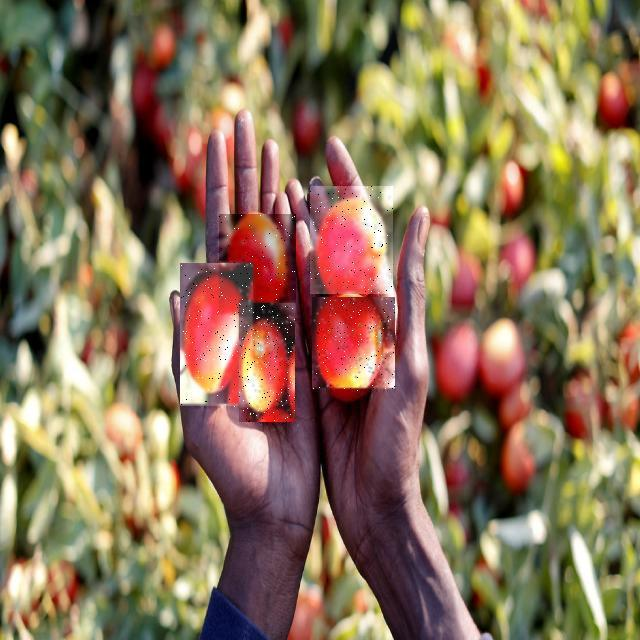tomato: (114, 196, 510, 588), (91, 211, 386, 633), (114, 147, 506, 441), (54, 204, 306, 612), (71, 158, 367, 476)
